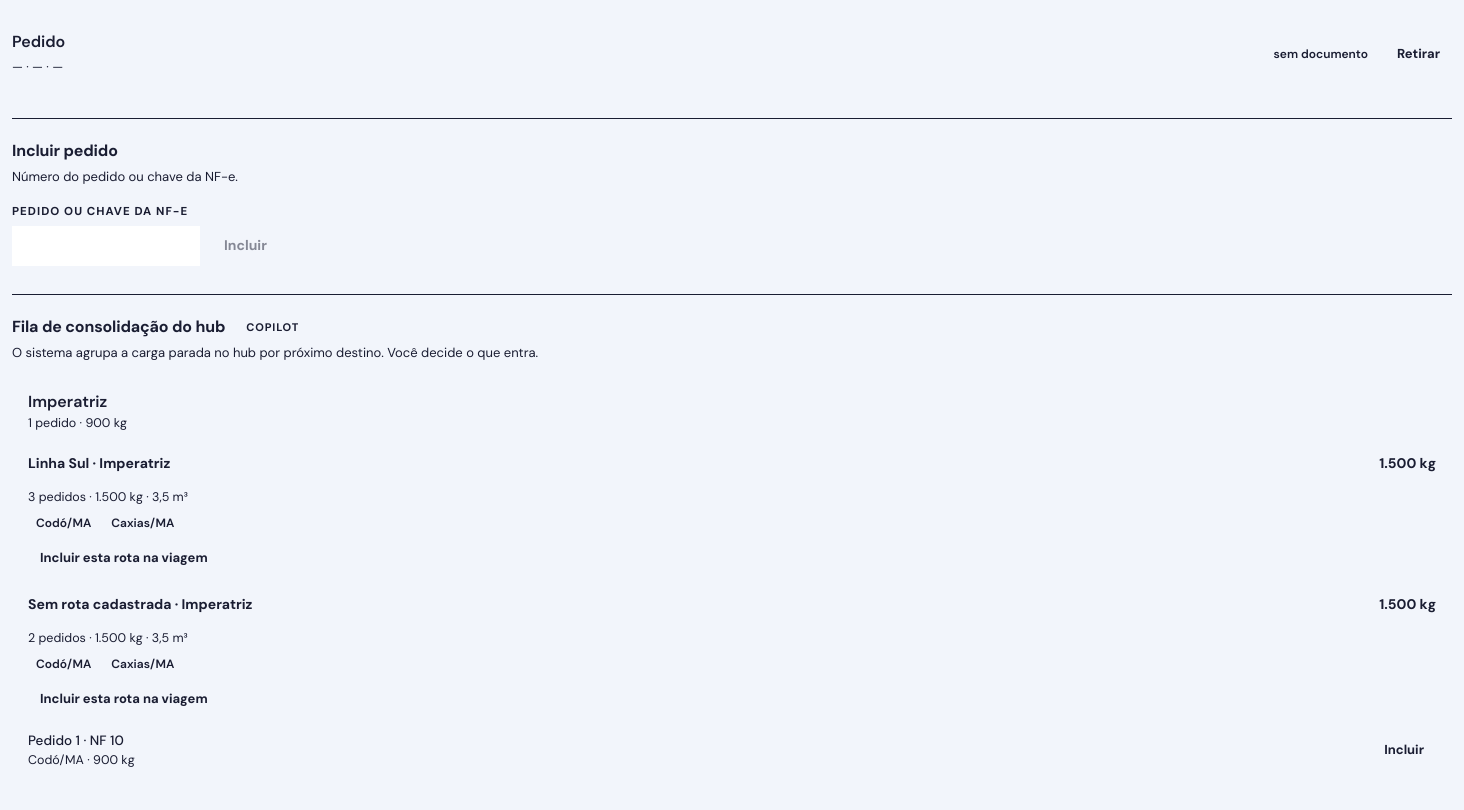
Test case: CargoStep + quebra por rota › "Incluir esta rota na viagem" adiciona os pedidos da rota à viagem aberta, pulando os que já estão nela
(page scrolled)
Click the button "Incluir esta rota na viagem" below "Linha Sul · Imperatriz": (124, 558) [28,542,220,574]
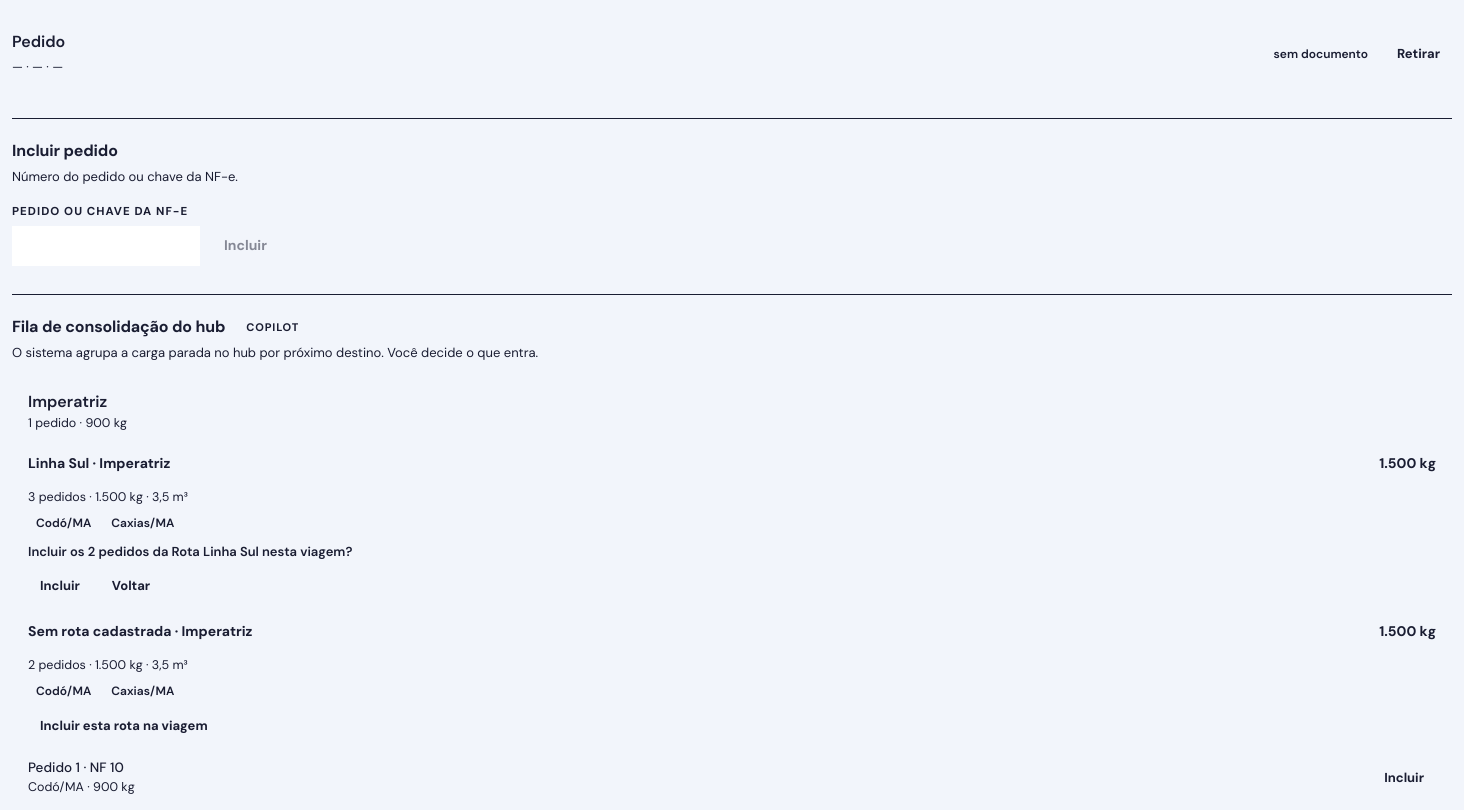
Expected: the text "Incluir os 2 pedidos da Rota Linha Sul nesta viagem?" is shown, [28,543,352,560]
Click the button "Incluir" below "Linha Sul · Imperatriz": (60, 585) [28,569,92,601]
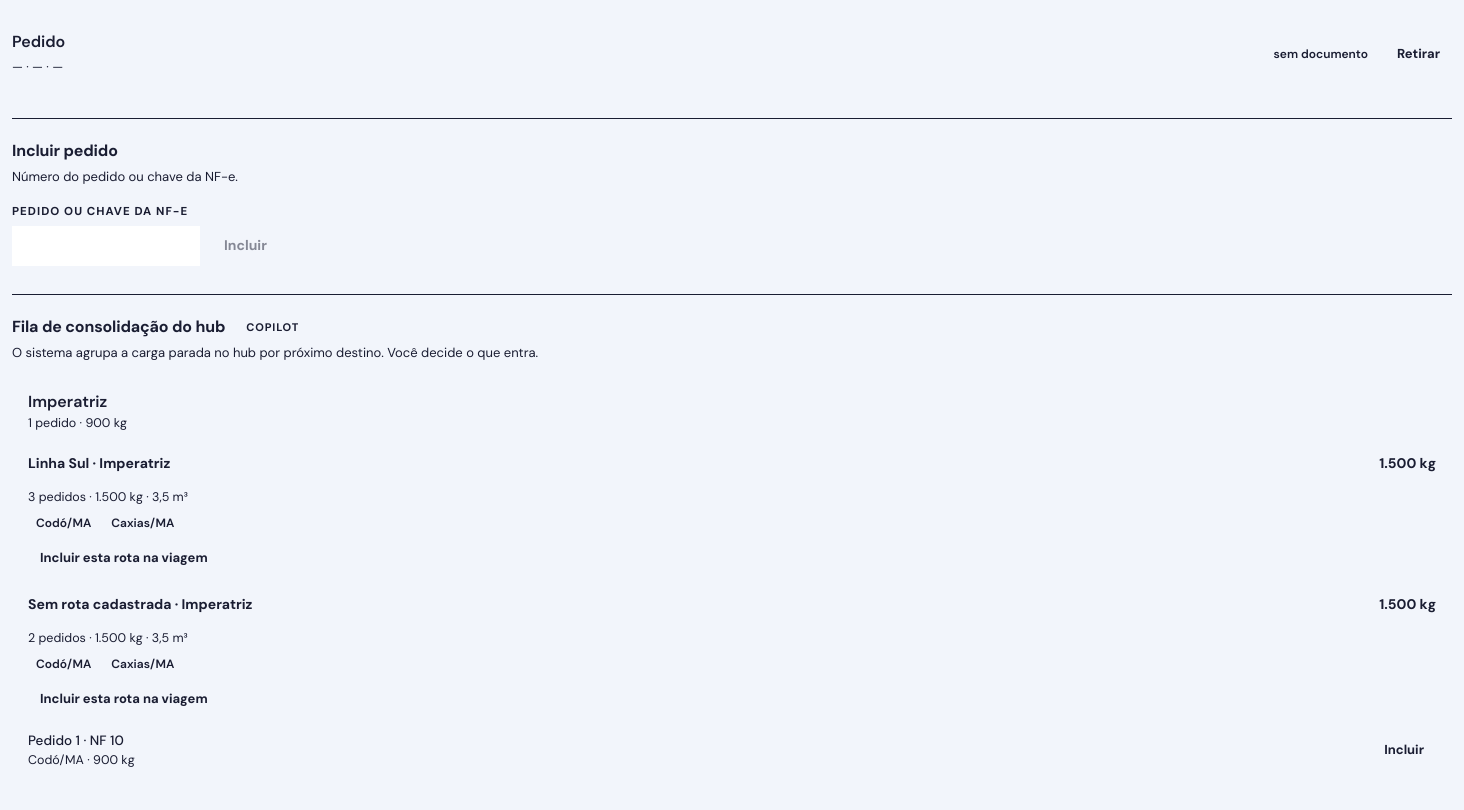
Expected: the text "nesta viagem?" is gone
